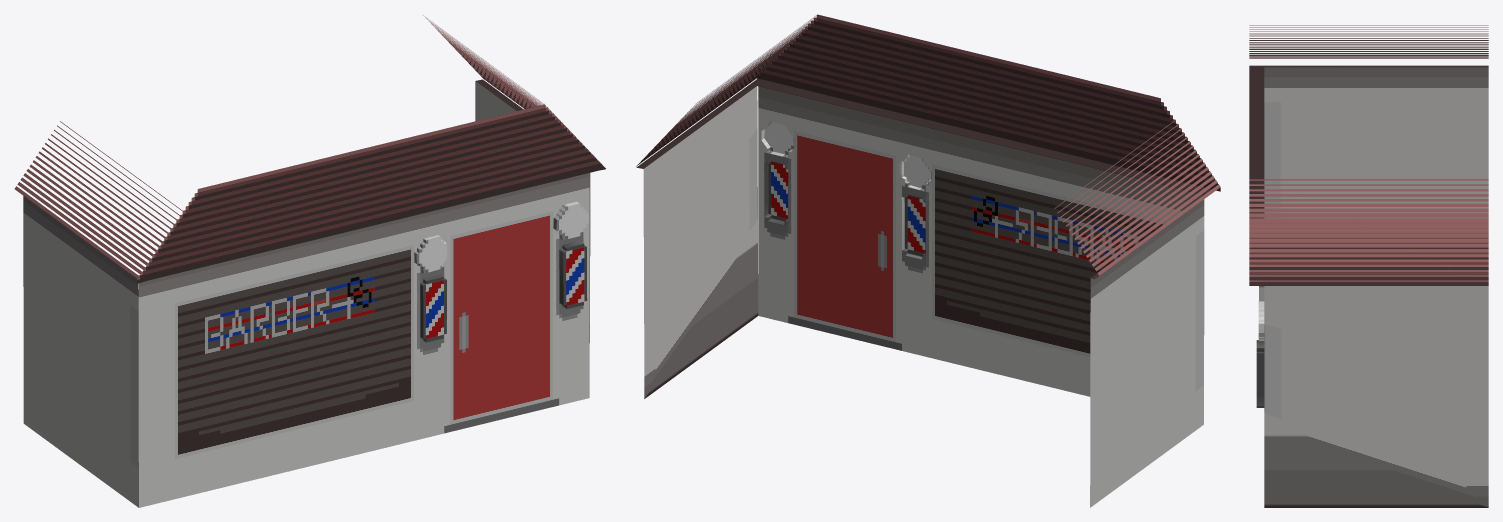
File: BarberShop.fbx
3 views of the same model, side by side, from view 1: azimuth 30°, elevation 25°; view 2: azimuth 150°, elevation 25°; view 3: azimuth 270°, elevation 25° (orthographic). The views are drawn at different scales.
Visible parts, largest first — view 1: Plane.002; view 2: Plane.002; view 3: Plane.002.
Part boxes in pixels (x1,y1,x2,y2): Plane.002: (14, 15, 605, 507); Plane.002: (636, 14, 1220, 507); Plane.002: (1249, 25, 1488, 507).
Bounding box in the file's own units: 2963 × 1885 × 1342.
Materials: 1 (1 with a texture image).
